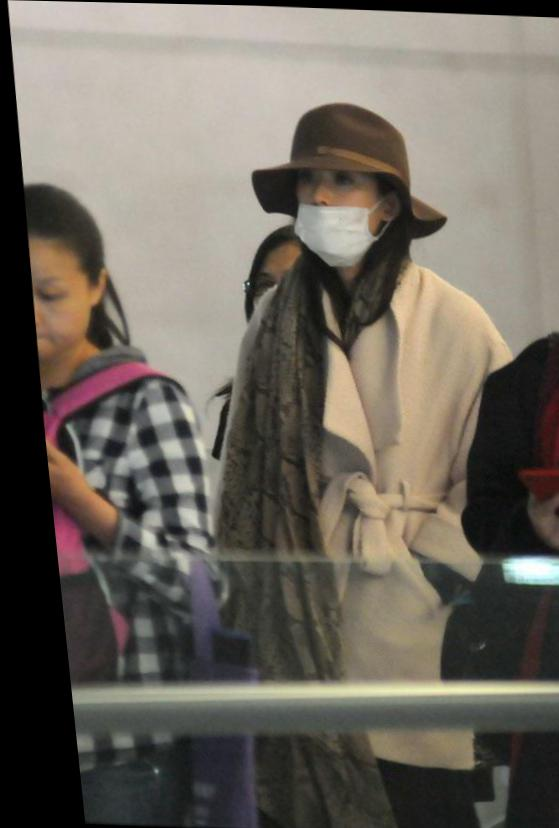NONE: (22, 250, 90, 362)
WRONG: (275, 157, 379, 255)
